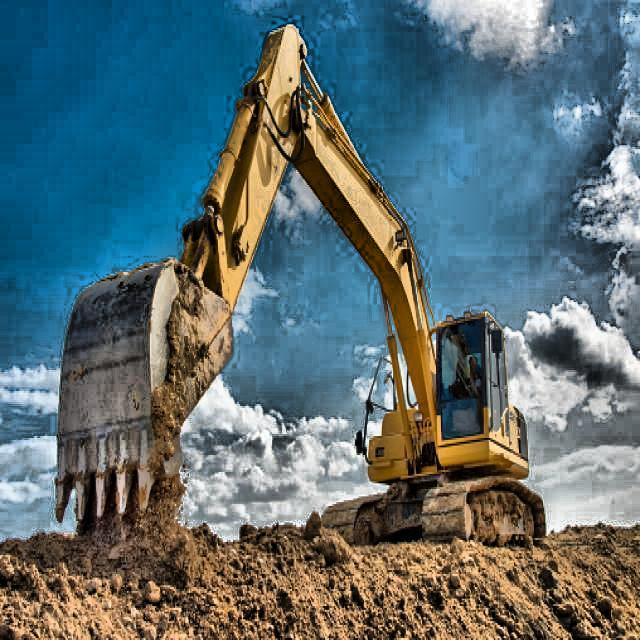excavator: (54, 15, 560, 558)
